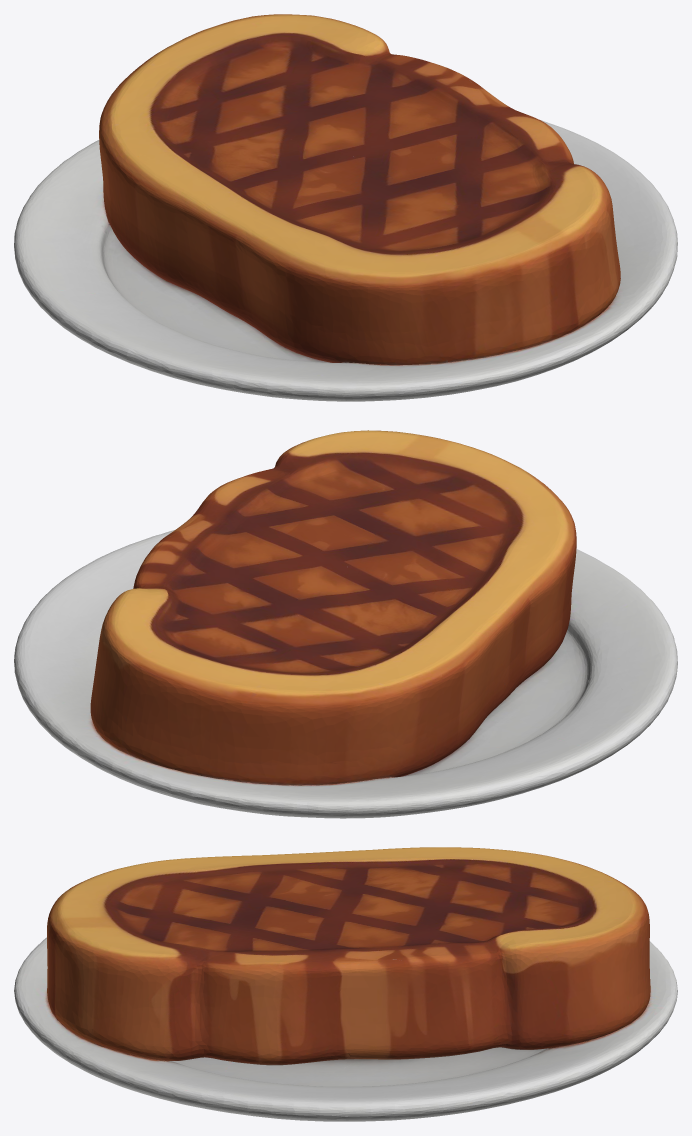
Rendered from meal_12.glb.
3 views of the same model, one above another, from view 1: azimuth 30°, elevation 25°; view 2: azimuth 150°, elevation 25°; view 3: azimuth 270°, elevation 25° (orthographic). The views are drawn at different scales.
Parts seen in each view (by area): view 1: tripo_node_db26a085-bfdd-43b7-98ce-e4165083565f; view 2: tripo_node_db26a085-bfdd-43b7-98ce-e4165083565f; view 3: tripo_node_db26a085-bfdd-43b7-98ce-e4165083565f.
Boxes of the visible parts, x1,y1,x2,y2 form: tripo_node_db26a085-bfdd-43b7-98ce-e4165083565f: (14,14,677,401); tripo_node_db26a085-bfdd-43b7-98ce-e4165083565f: (14,430,677,818); tripo_node_db26a085-bfdd-43b7-98ce-e4165083565f: (14,847,677,1121).
Size of the model in its own units: 0.9331 by 0.2361 by 1.
1 material, 1 textured.
